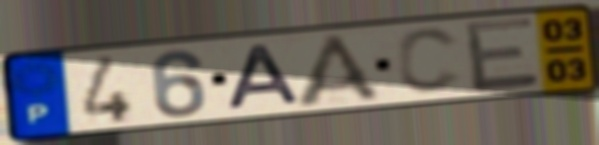4: (78, 53, 135, 125)
6: (147, 47, 208, 120)
A: (292, 31, 389, 111), (225, 41, 306, 113)
C: (394, 25, 466, 97)
E: (460, 14, 544, 96)
